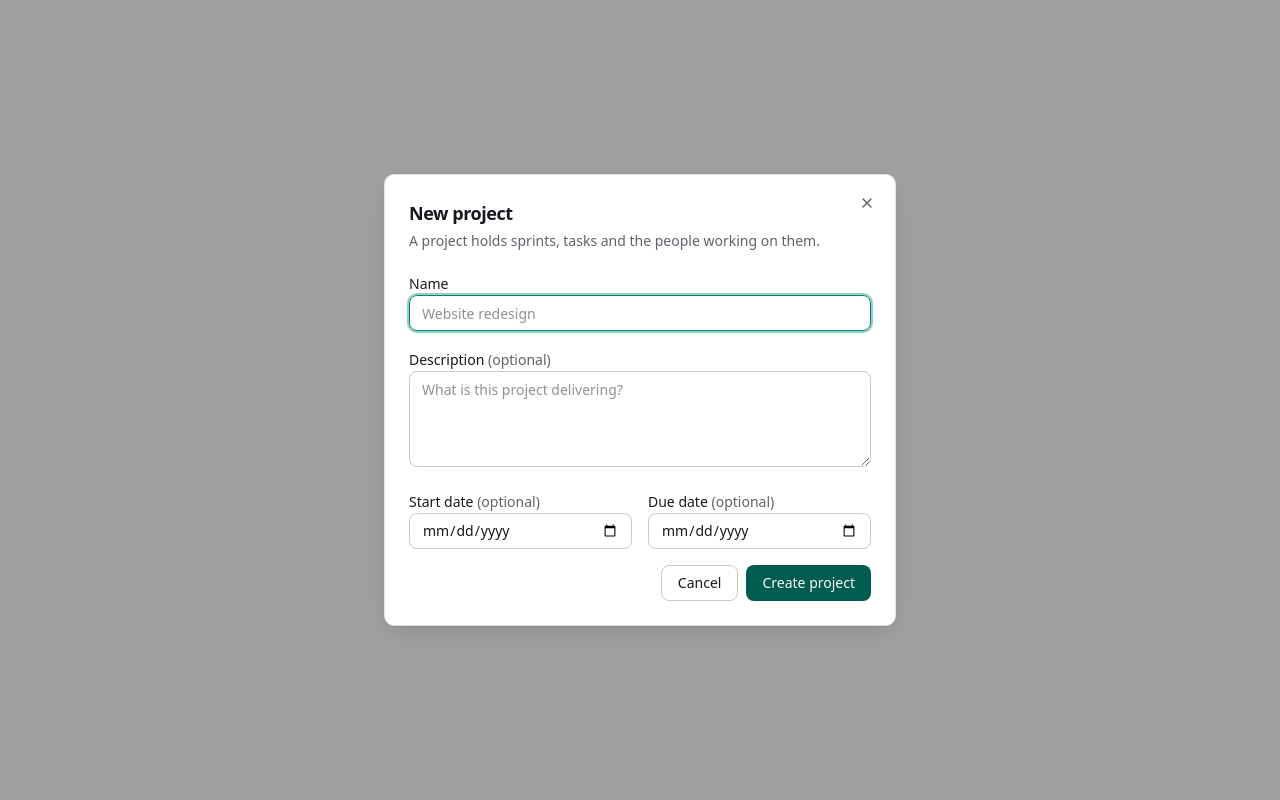
Test: ProjectFormDialog › maps backend field validation errors onto the matching fields
The image size is (1280, 800).
Step 1. Type "X" into the field labelled "Name" → (640, 313), box 409,295 -> 871,331
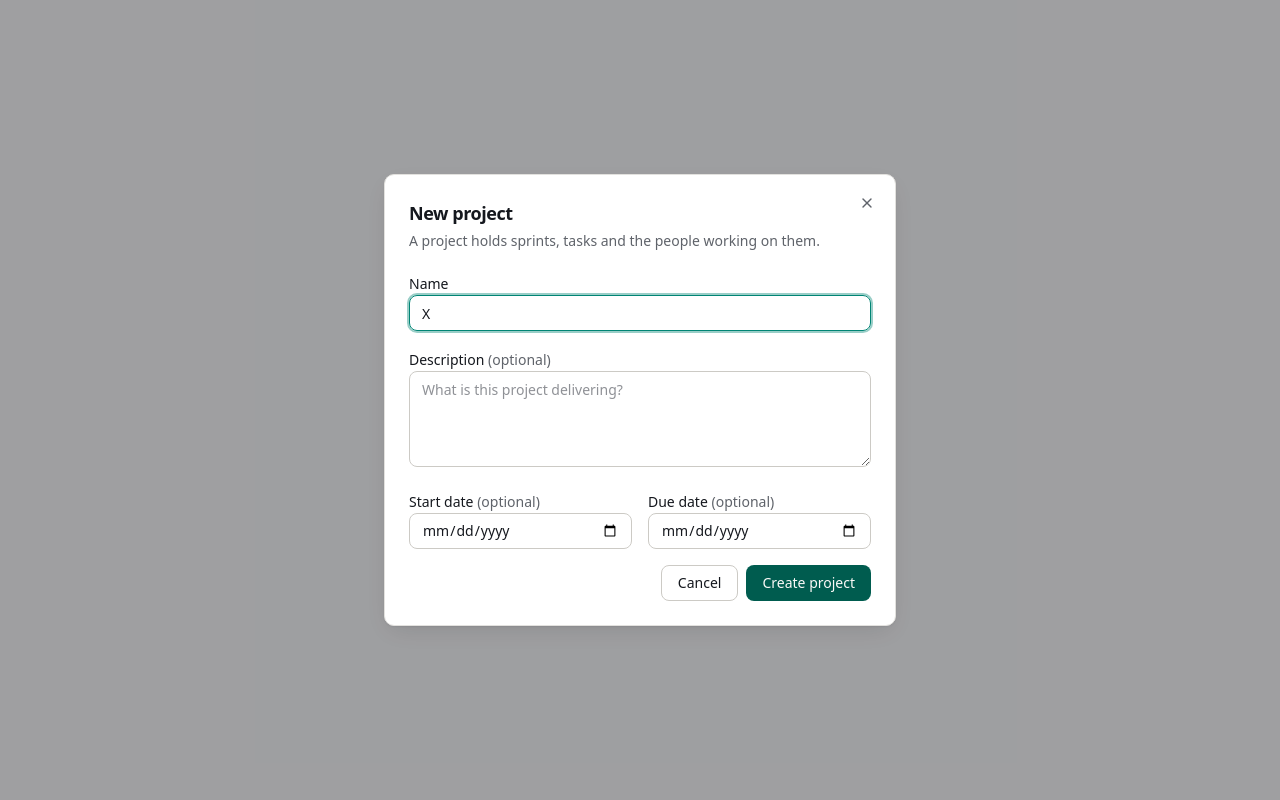
Step 2. Click the button "Create project" → (809, 583), box 746,565 -> 871,601
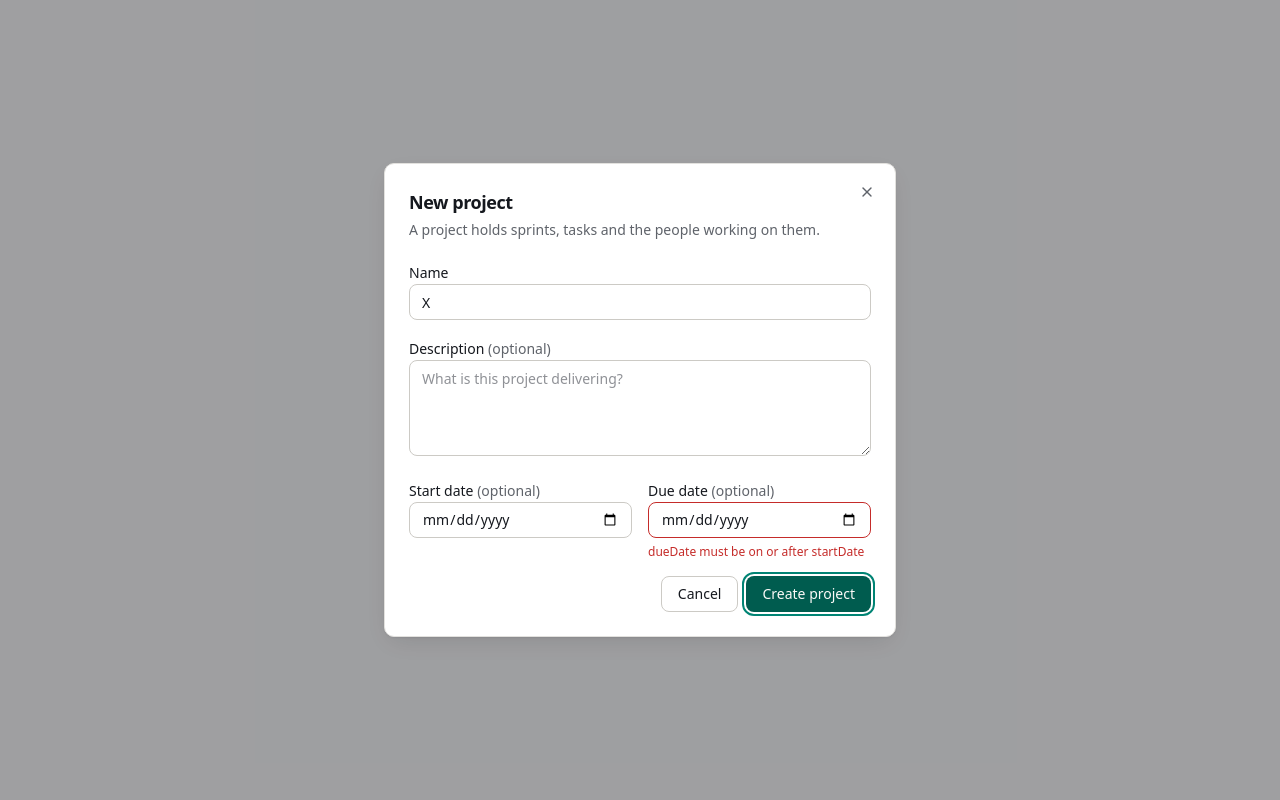
Check: the text "dueDate must be on or after startDate" is shown, box 648,544 -> 871,560
